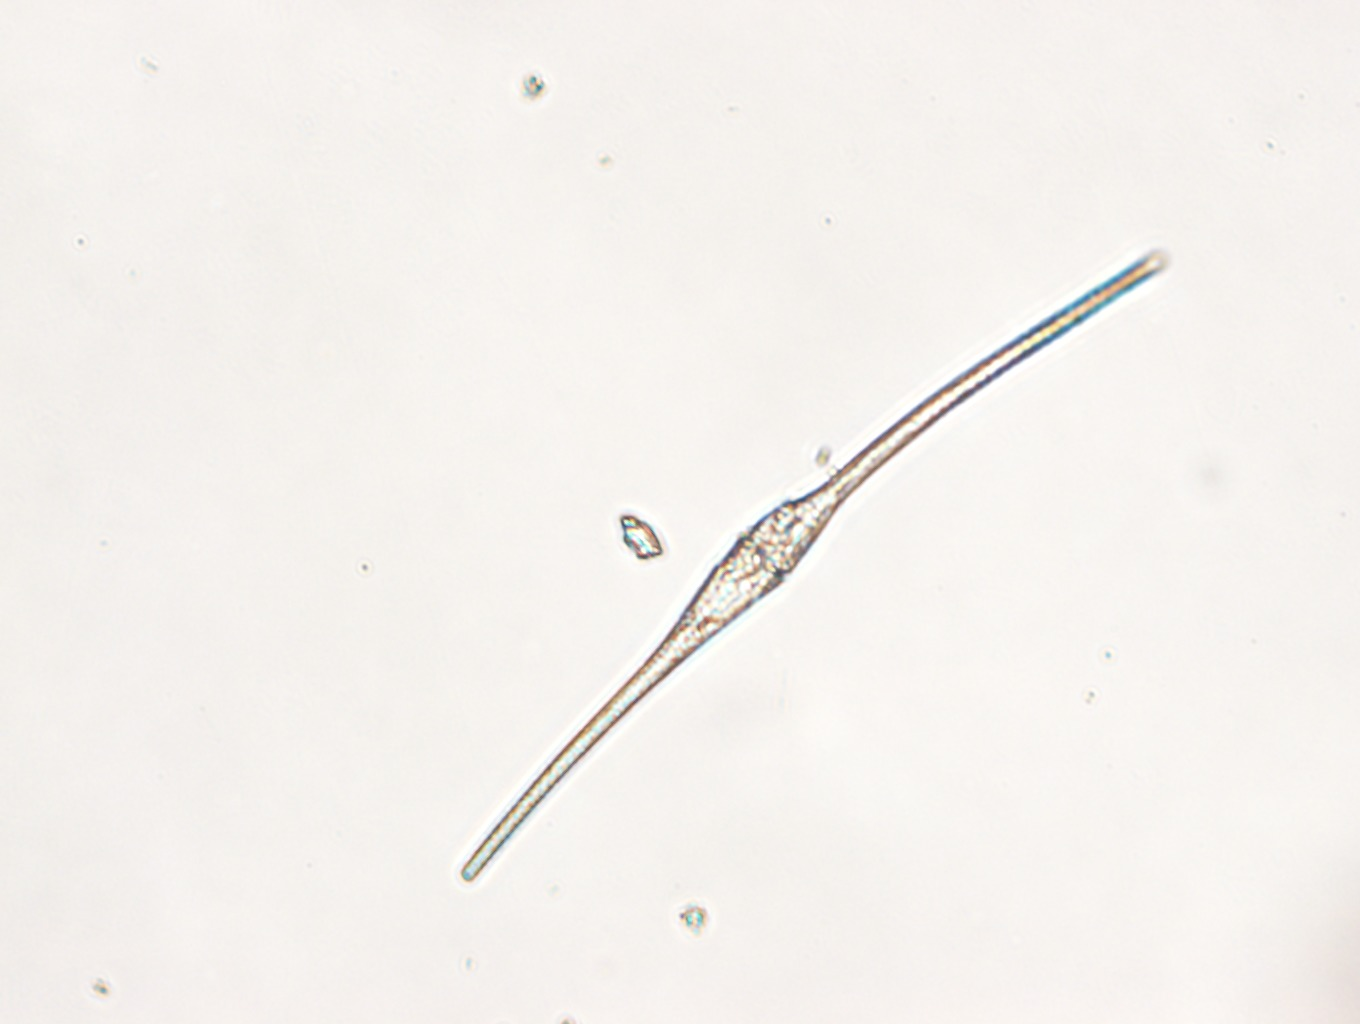ceratium fusus: (459, 248, 1173, 882)
